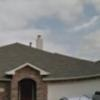chimneys: (28, 42, 32, 47)
